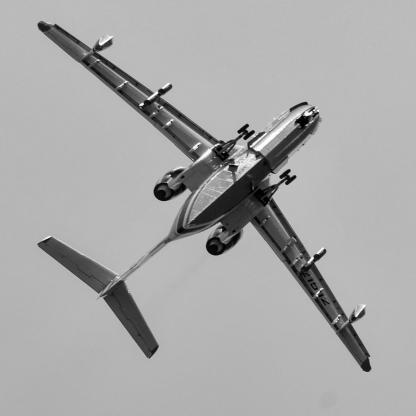Be200: (37, 22, 373, 374)
